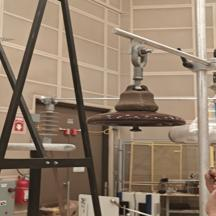insulator: (83, 78, 194, 143)
